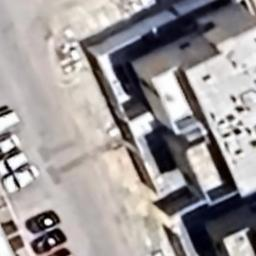SUV: (0, 152, 31, 178)
sedan: (0, 162, 41, 194), (30, 228, 70, 254), (24, 209, 64, 234), (0, 134, 22, 158), (38, 247, 77, 254)
van: (0, 108, 21, 136)
